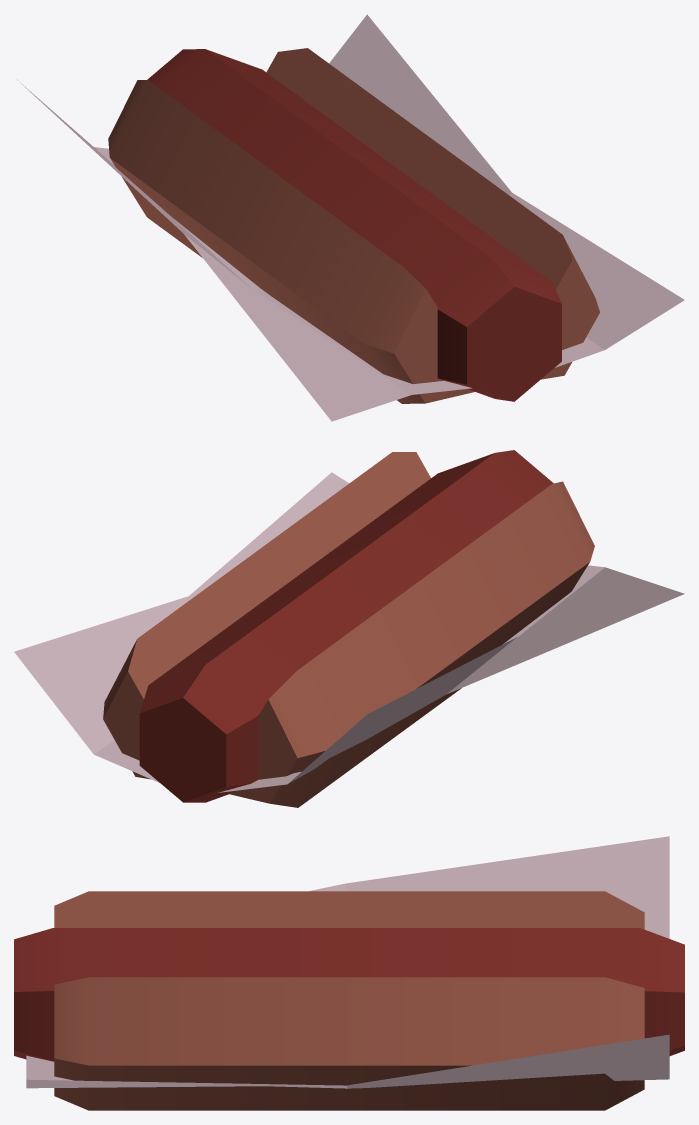
The model's file is hotdog.fbx.
The picture shows the model from 3 angles, top to bottom: view 1: azimuth 30°, elevation 25°; view 2: azimuth 150°, elevation 25°; view 3: azimuth 270°, elevation 25°; orthographic projection.
Parts seen in each view (by area): view 1: hotdog; view 2: hotdog; view 3: hotdog.
Part boxes in pixels (x1,y1,x2,y2): hotdog: [17, 14, 684, 421]; hotdog: [14, 450, 684, 807]; hotdog: [14, 836, 684, 1110].
Bounding box in the file's own units: 11.76 × 4.71 × 19.11.
